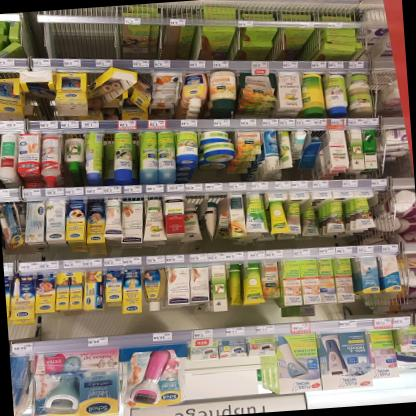empty_space: (50, 7, 116, 63), (183, 193, 206, 230), (206, 196, 227, 226)
